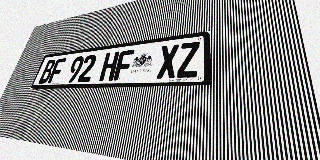2: (77, 54, 97, 82)
9: (66, 56, 85, 83)
B: (38, 59, 56, 84)
F: (113, 49, 134, 81), (47, 58, 66, 83)
H: (99, 51, 120, 81)
X: (156, 44, 179, 79)
Z: (177, 41, 200, 78)
